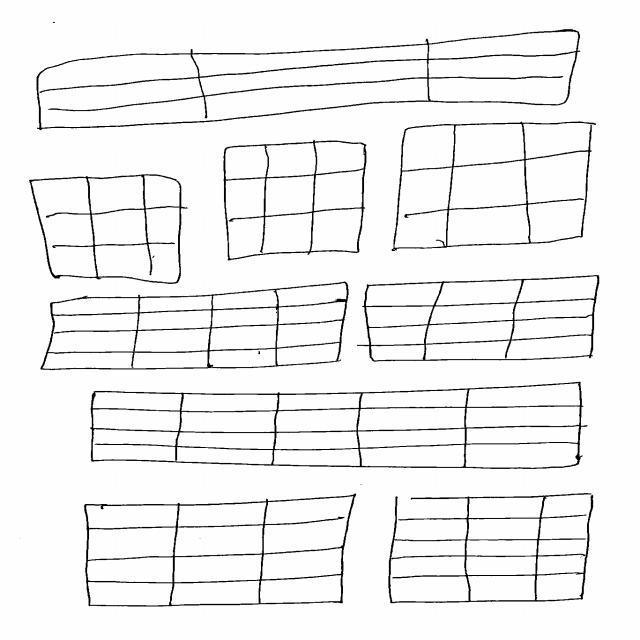table: (37, 30, 581, 131), (90, 383, 588, 470), (85, 495, 357, 608), (41, 282, 350, 371), (392, 122, 597, 252), (389, 491, 596, 604), (357, 275, 600, 363), (30, 175, 189, 285), (224, 141, 367, 262)
